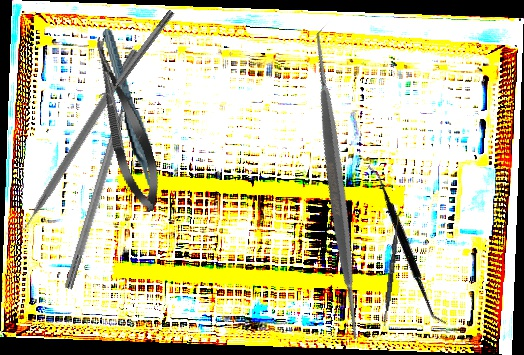Chopper: (2, 41, 141, 244)
Fixation Ring: (97, 6, 180, 108)
Hook Surgical: (63, 81, 138, 291)
Micro Scissor: (81, 31, 169, 217)
Spatula Surgical: (171, 20, 503, 351), (317, 163, 497, 326), (382, 210, 402, 326)
Tissue Forceps: (100, 25, 162, 208)
